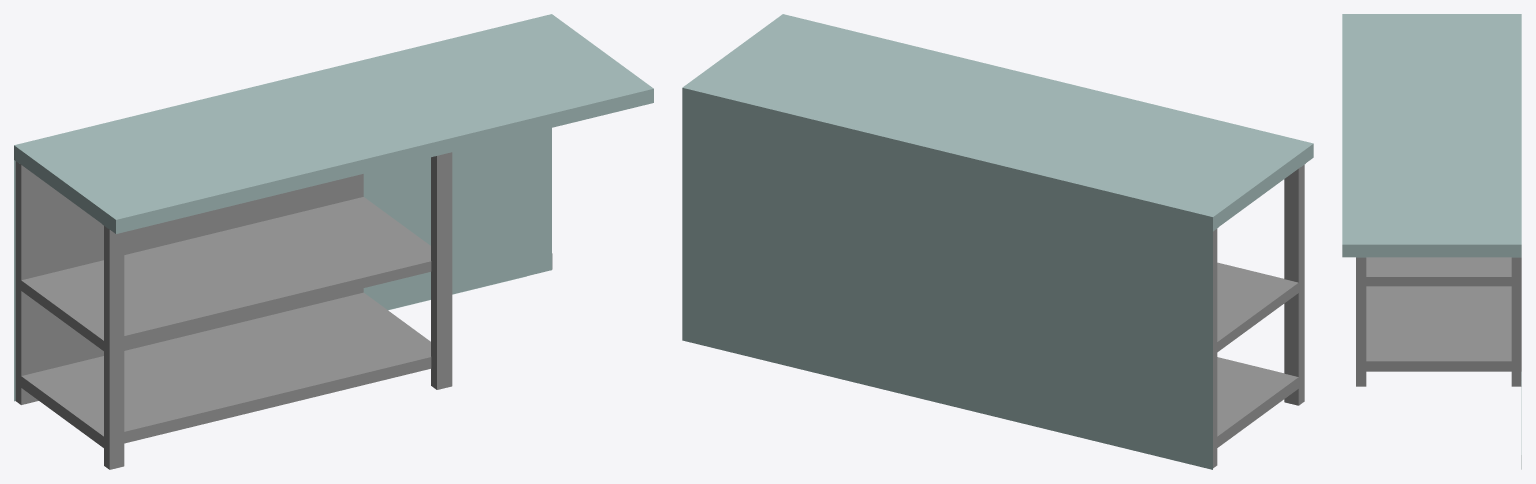
Rendered from BinTable.fbx.
The picture shows the model from 3 angles, left to right: view 1: azimuth 30°, elevation 25°; view 2: azimuth 150°, elevation 25°; view 3: azimuth 270°, elevation 25°; orthographic projection. The views are drawn at different scales.
Visible parts, largest first — view 1: polySurface8, polySurface3, polySurface7; view 2: polySurface7, polySurface3, polySurface8; view 3: polySurface3, polySurface8.
Part boxes in pixels (bbox=[...]): polySurface8: bbox=[15, 152, 452, 469]; polySurface3: bbox=[14, 14, 653, 233]; polySurface7: bbox=[14, 128, 552, 401]; polySurface7: bbox=[682, 102, 1212, 469]; polySurface3: bbox=[682, 14, 1313, 231]; polySurface8: bbox=[1213, 165, 1304, 468]; polySurface3: bbox=[1342, 14, 1521, 257]; polySurface8: bbox=[1356, 257, 1521, 386].
Size of the model in its own units: 259 by 118 by 85.19.
